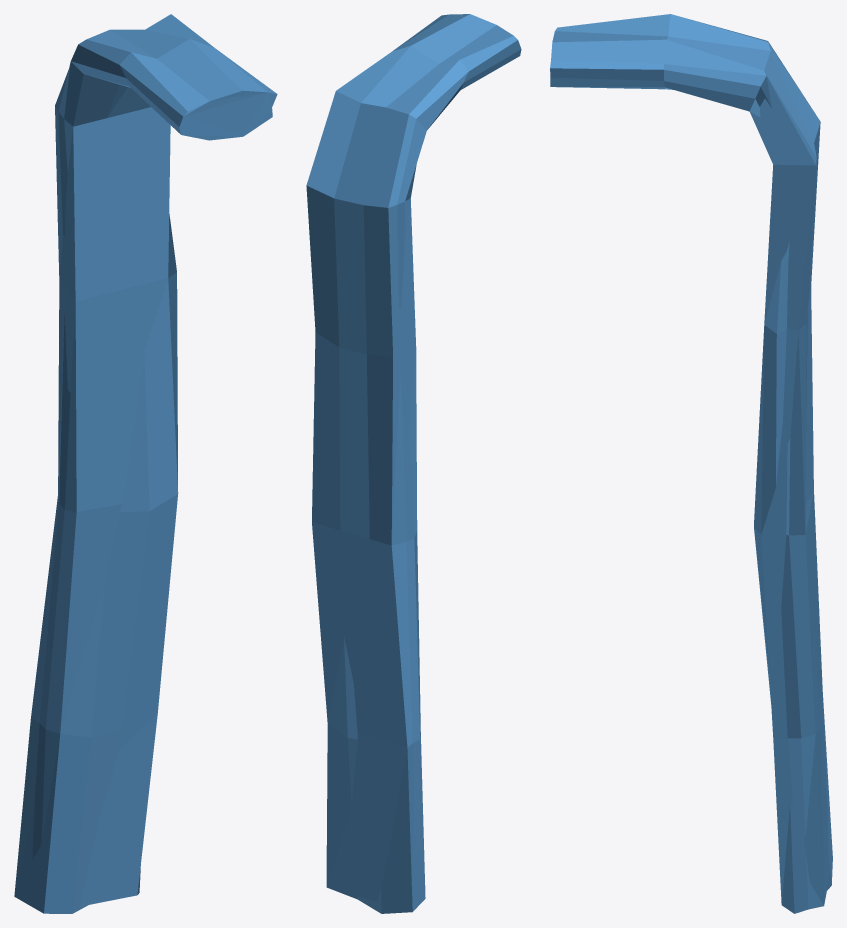
File: Waterfall.FBX
3 renders of one model, left to right at view 1: azimuth 30°, elevation 25°; view 2: azimuth 150°, elevation 25°; view 3: azimuth 270°, elevation 25°, orthographic. The views are drawn at different scales.
Parts seen in each view (by area): view 1: Cube.012; view 2: Cube.012; view 3: Cube.012.
Part boxes in pixels (x1,y1,x2,y2): Cube.012: (14,14,277,913); Cube.012: (306,14,521,913); Cube.012: (550,14,832,913).
Size of the model in its own units: 93.56 by 611 by 180.
